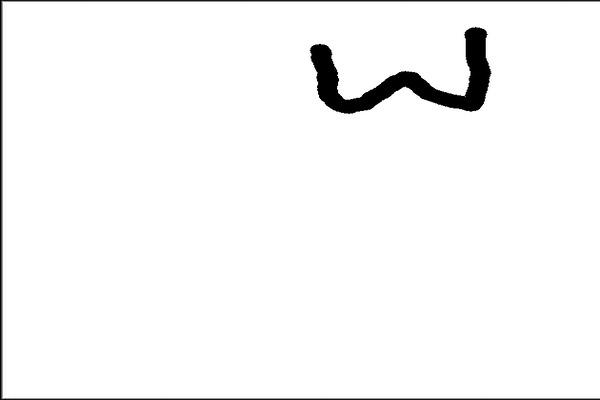w: (291, 24, 528, 161)
